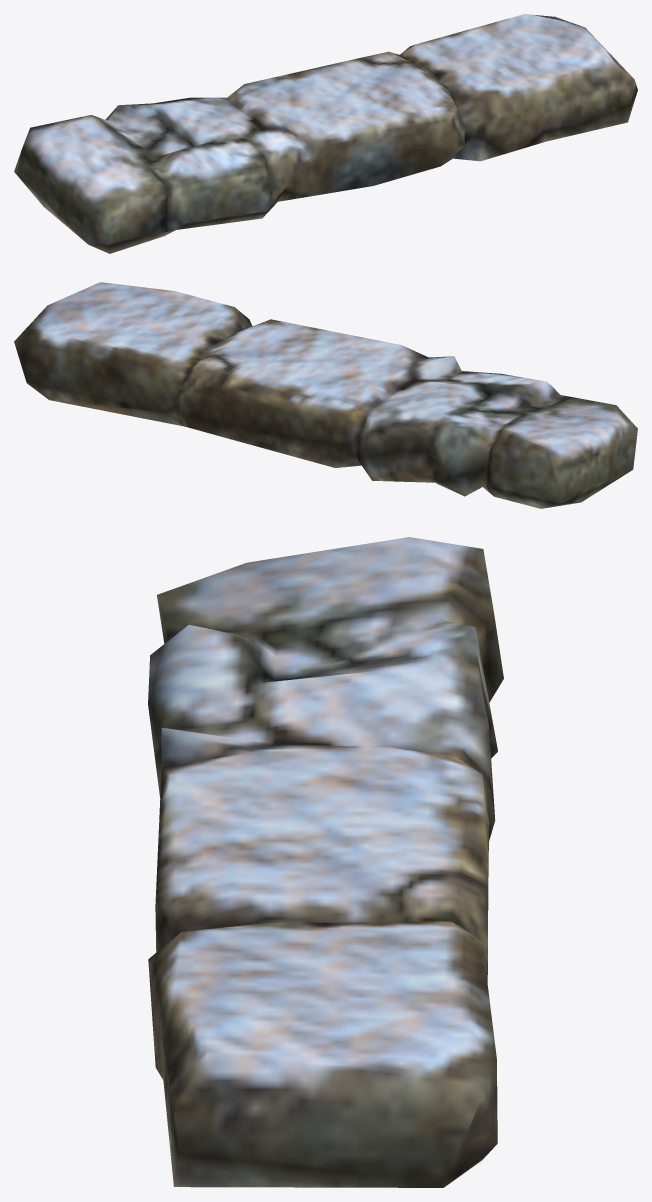
The model's file is SM_EN_2007_shitou10.FBX.
3 renders of one model, top to bottom at view 1: azimuth 30°, elevation 25°; view 2: azimuth 150°, elevation 25°; view 3: azimuth 270°, elevation 25°, orthographic. The views are drawn at different scales.
Parts seen in each view (by area): view 1: SM_EN_2007_shitou10; view 2: SM_EN_2007_shitou10; view 3: SM_EN_2007_shitou10.
Part boxes in pixels (x1,y1,x2,y2): SM_EN_2007_shitou10: [14, 14, 637, 253]; SM_EN_2007_shitou10: [14, 282, 637, 508]; SM_EN_2007_shitou10: [148, 537, 503, 1187].
Size of the model in its own units: 230 by 32.19 by 64.43.
